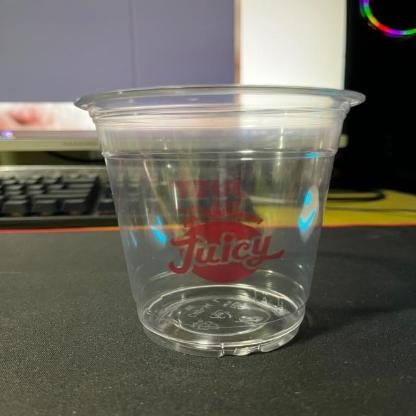Plastic Cup: (70, 83, 368, 359)
